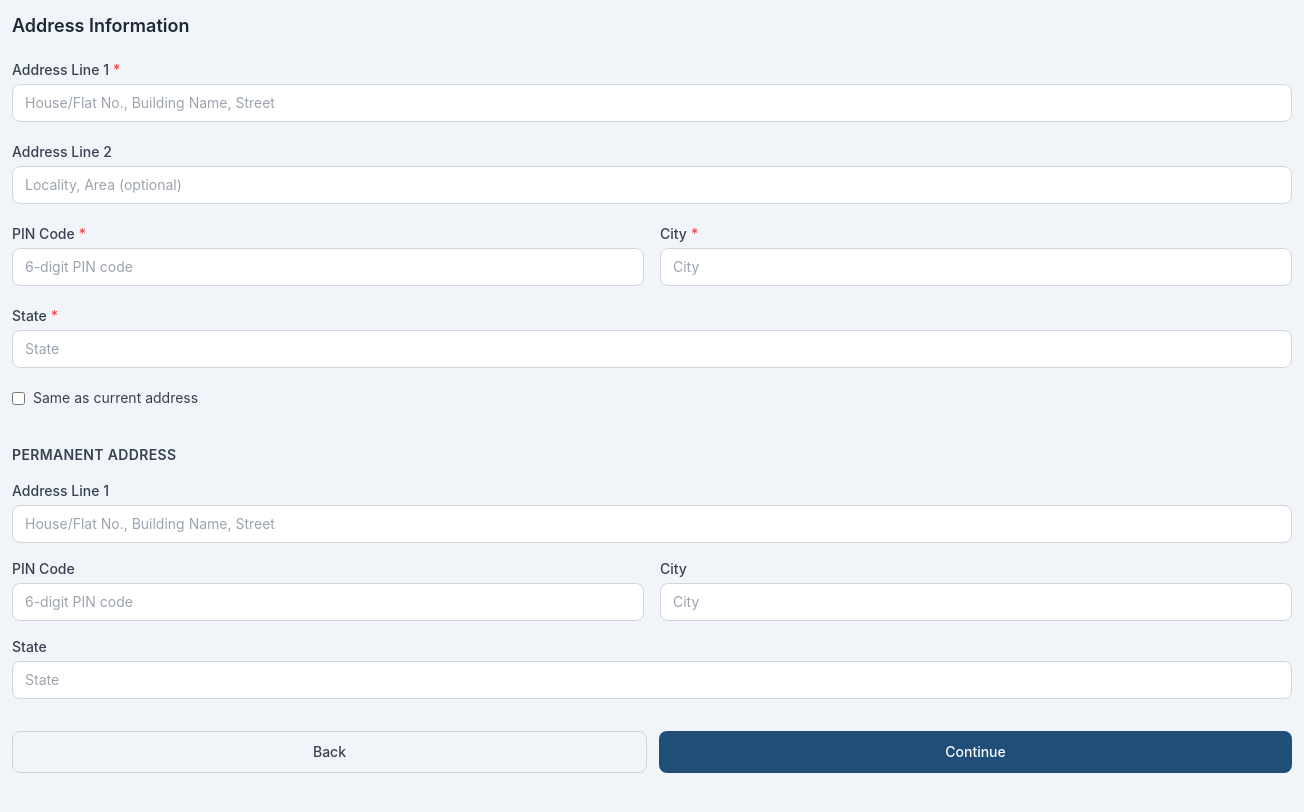
Scenario: AddressInfo component › hides permanent address when sameAsPermanent is checked
The image size is (1304, 812).
Click the checkbox.
click(18, 398)  # box [12, 392, 25, 404]
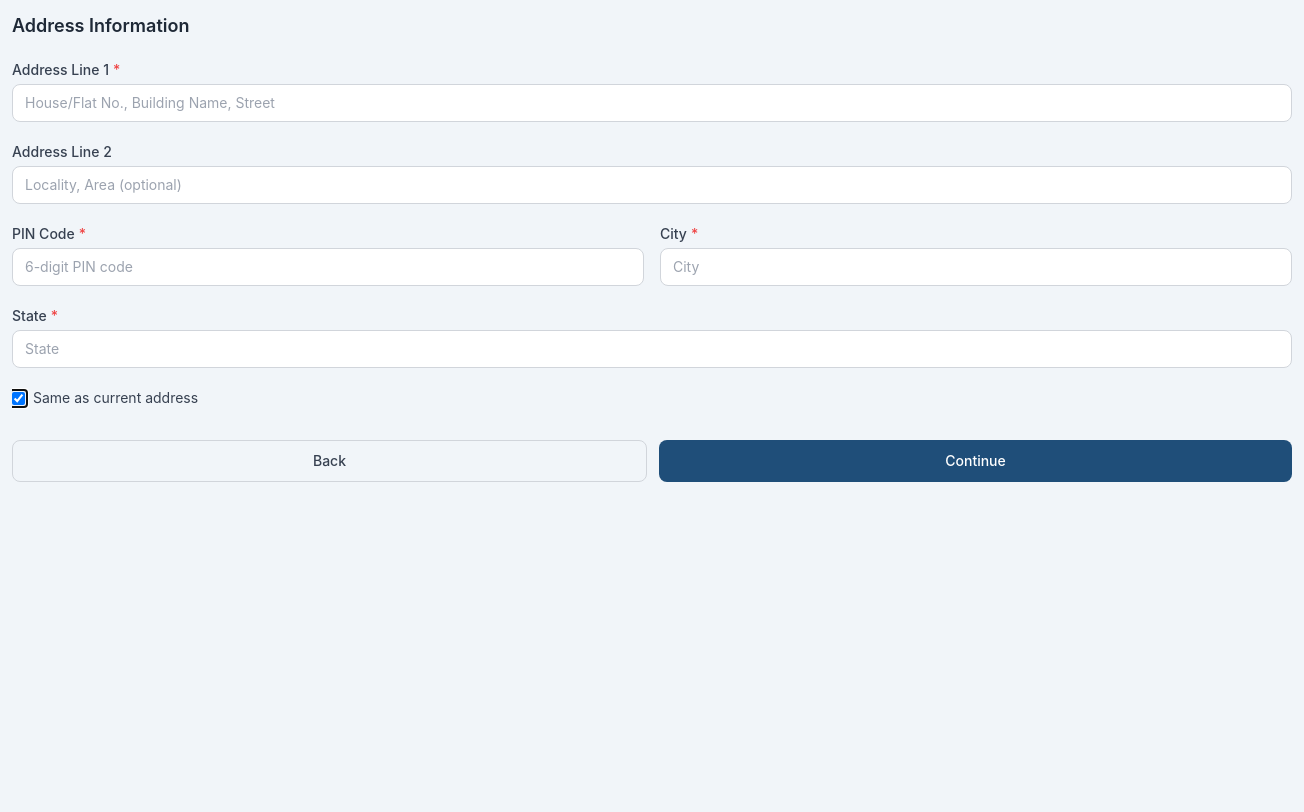
Expected: the heading "Permanent Address" is gone
